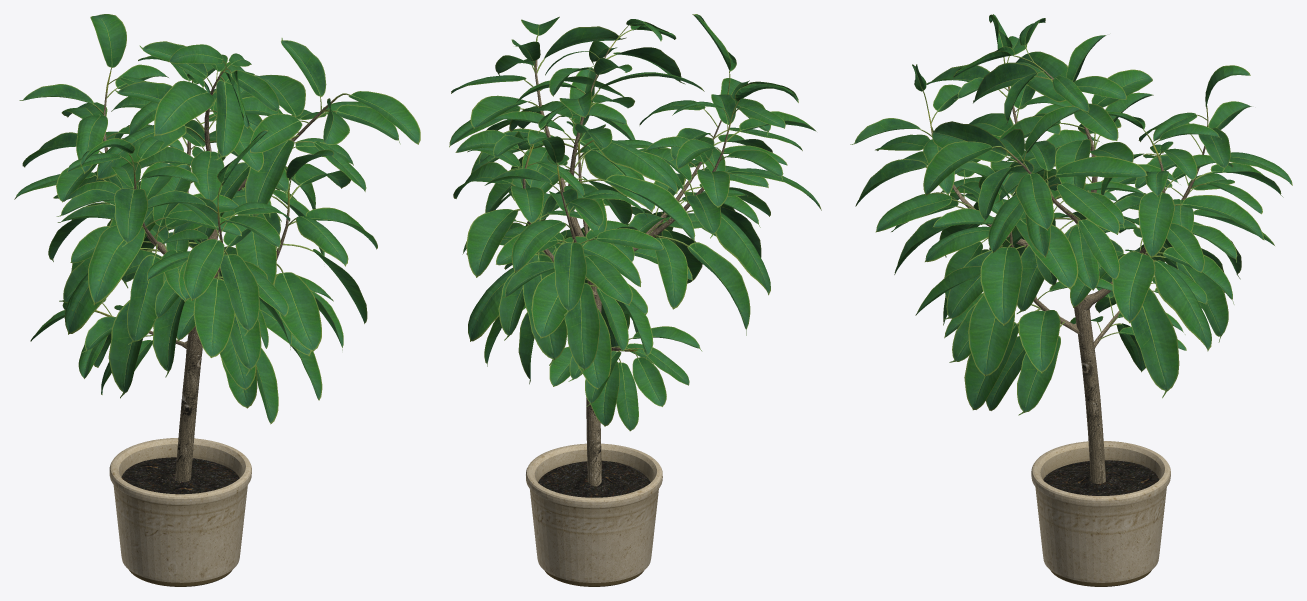
Rendered from plant.obj.
3 renders of one model, left to right at view 1: azimuth 30°, elevation 25°; view 2: azimuth 150°, elevation 25°; view 3: azimuth 270°, elevation 25°, orthographic. The views are drawn at different scales.
Parts seen in each view (by area): view 1: arch75_003_002, arch75_003_001, arch75_003_003; view 2: arch75_003_002, arch75_003_001, arch75_003_003; view 3: arch75_003_002, arch75_003_001, arch75_003_003.
Part boxes in pixels (bbox=[...]): arch75_003_002: bbox=[14, 14, 420, 424]; arch75_003_001: bbox=[109, 438, 251, 586]; arch75_003_003: bbox=[95, 69, 337, 481]; arch75_003_002: bbox=[449, 14, 821, 431]; arch75_003_001: bbox=[526, 443, 662, 586]; arch75_003_003: bbox=[522, 40, 730, 486]; arch75_003_002: bbox=[850, 14, 1292, 415]; arch75_003_001: bbox=[1031, 441, 1170, 586]; arch75_003_003: bbox=[928, 63, 1208, 483].
Size of the model in its own units: 46.96 by 72.59 by 54.34.
